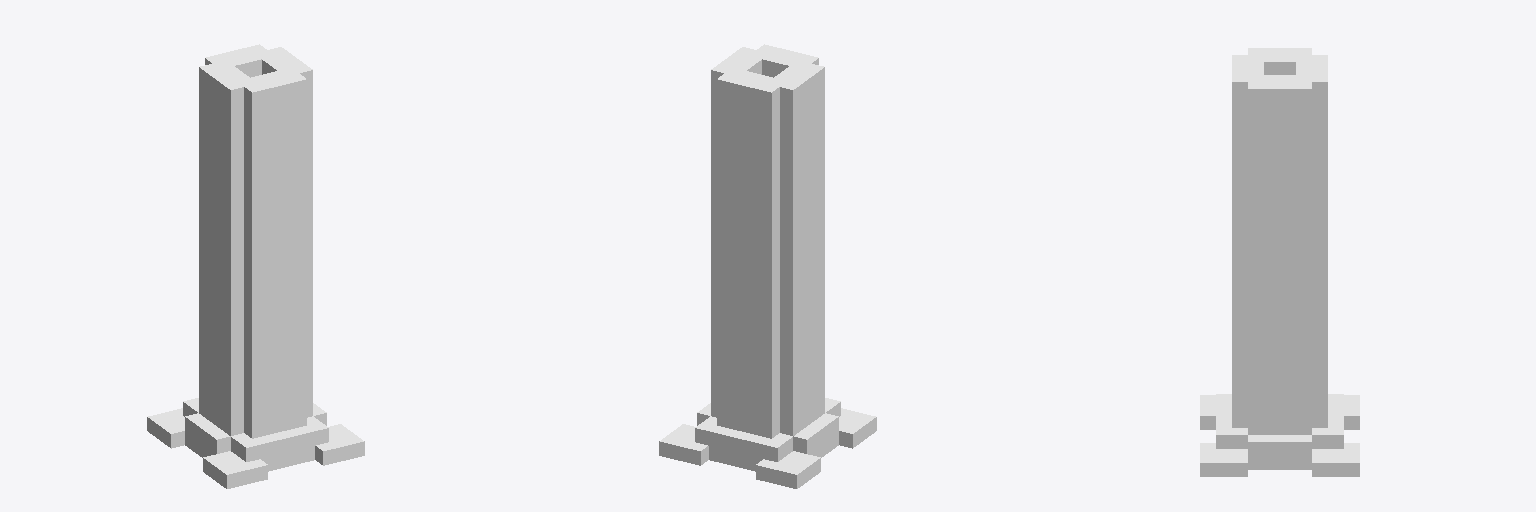
File: tree_trunk.obj
3 views of the same model, side by side, from view 1: azimuth 30°, elevation 25°; view 2: azimuth 150°, elevation 25°; view 3: azimuth 270°, elevation 25° (orthographic).
Visible parts, largest first — view 1: tree_trunk; view 2: tree_trunk; view 3: tree_trunk.
Part boxes in pixels (bbox=[...]): tree_trunk: bbox=[147, 44, 364, 488]; tree_trunk: bbox=[659, 44, 876, 488]; tree_trunk: bbox=[1200, 48, 1359, 476].
Bounding box in the file's own units: 1 × 2.6 × 1.